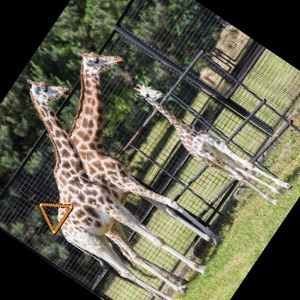triangle: (35, 199, 75, 235)
